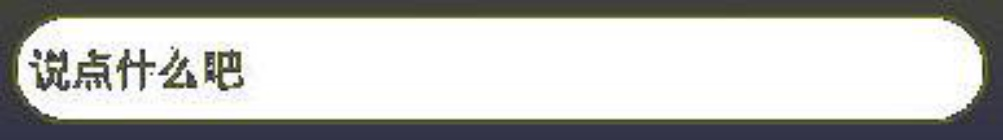EditText: (1, 1, 1002, 139)
